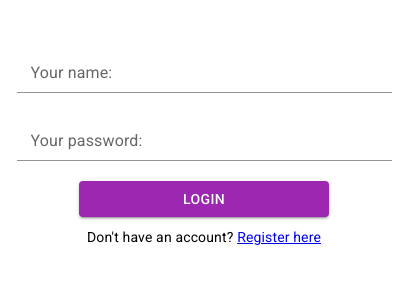
<Login /> › displays error message if API returns a failed request
In the field labelled "Your name:": coordinates (204, 77) [16,61,392,93], type "Travis"
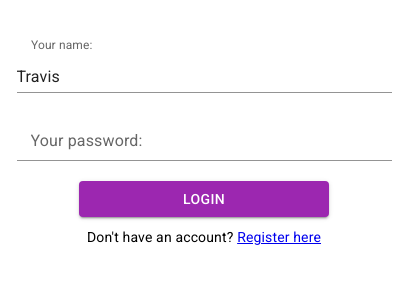
In the password field labelled "Your password:": coordinates (204, 145) [16,129,392,161], type "Password"
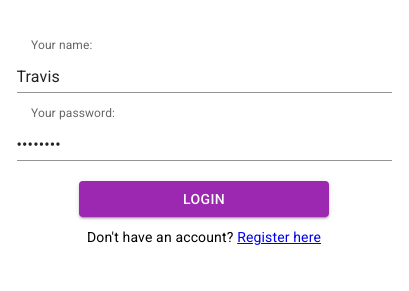
Click the button: coordinates (204, 199) [79,181,329,217]
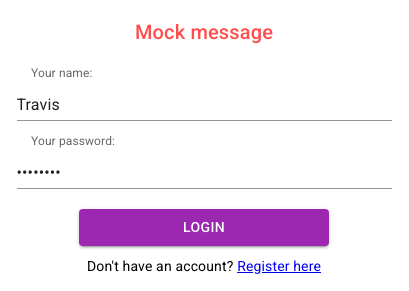
Result: the heading "Mock message" is shown at [135,16,273,48]
